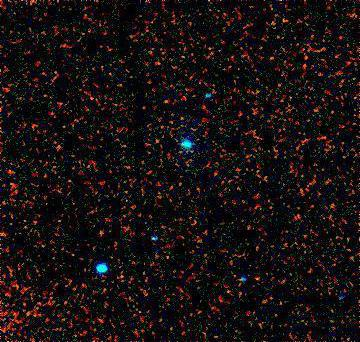star: (249, 264, 279, 294)
